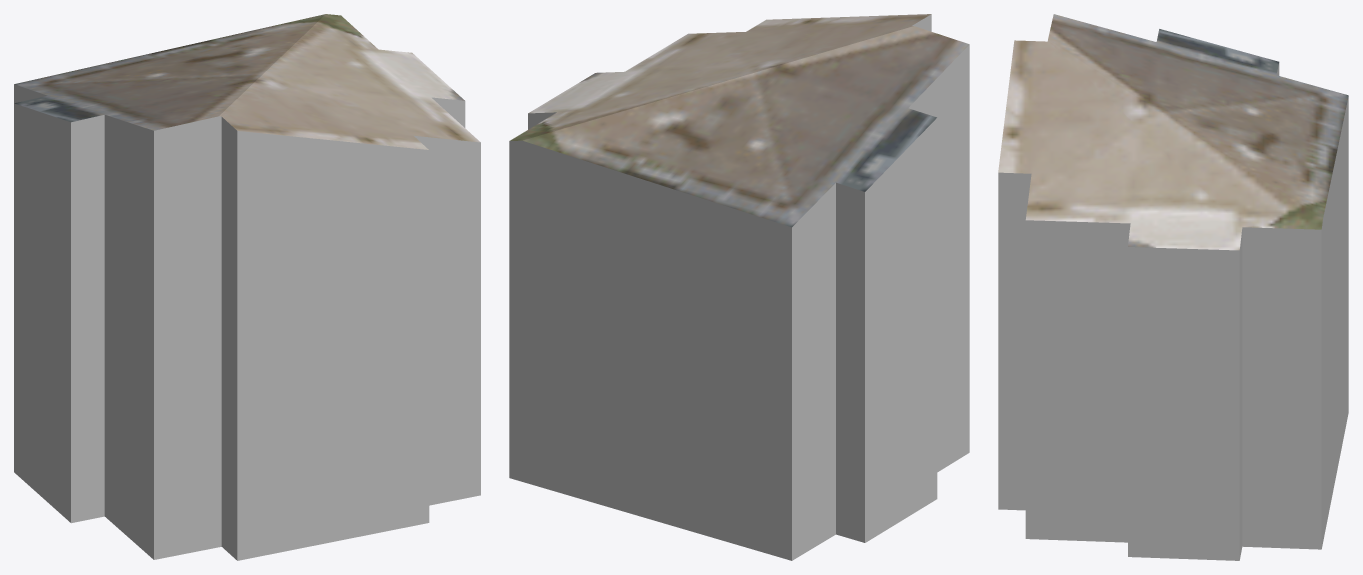
File: DEBW_0010007Tvl4.gltf
3 views of the same model, side by side, from view 1: azimuth 30°, elevation 25°; view 2: azimuth 150°, elevation 25°; view 3: azimuth 270°, elevation 25° (orthographic). The views are drawn at different scales.
Parts seen in each view (by area): view 1: Z_UP; view 2: Z_UP; view 3: Z_UP.
Part boxes in pixels (bbox=[...]): Z_UP: bbox=[14, 14, 480, 560]; Z_UP: bbox=[509, 14, 969, 560]; Z_UP: bbox=[998, 14, 1348, 560].
Bounding box in the file's own units: 17.96 × 19.17 × 15.65.
2 materials, 1 textured.
